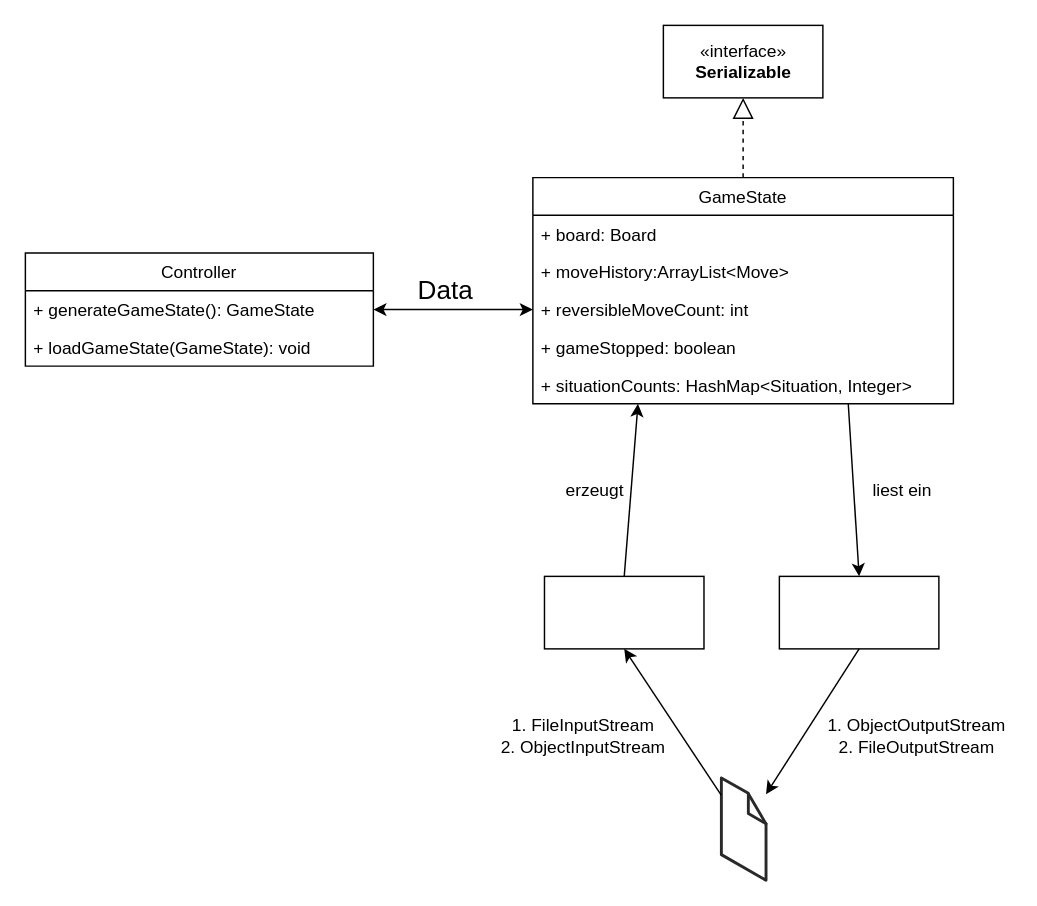
The diagram is 1037 pixels wide and 906 high, and some of its shapes have lost their labels. The centre of each missing label's shape, as x and y in pixels:
GameReader: (x=623, y=612)
GameWriter: (x=858, y=612)
